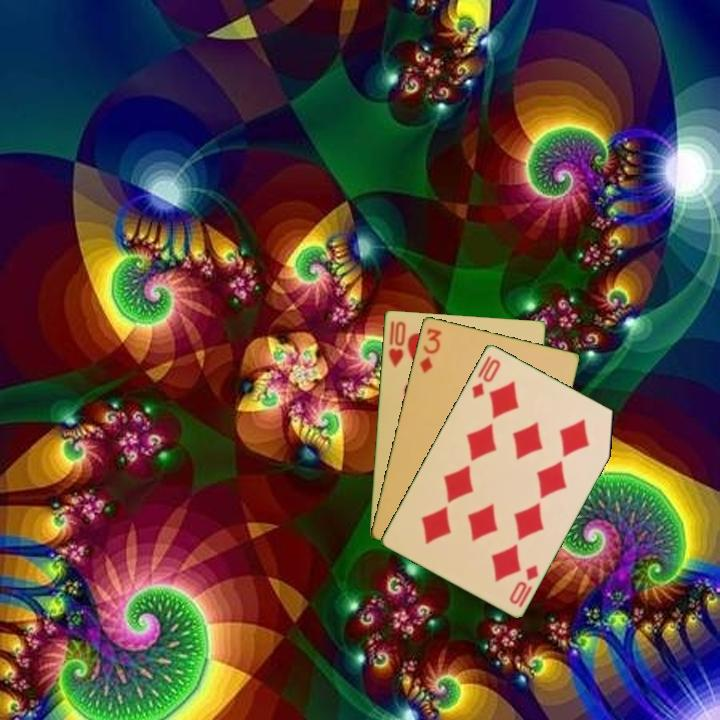10d: (468, 352, 503, 401), (505, 560, 541, 607)
10h: (384, 317, 408, 371)
3d: (416, 324, 444, 376)
